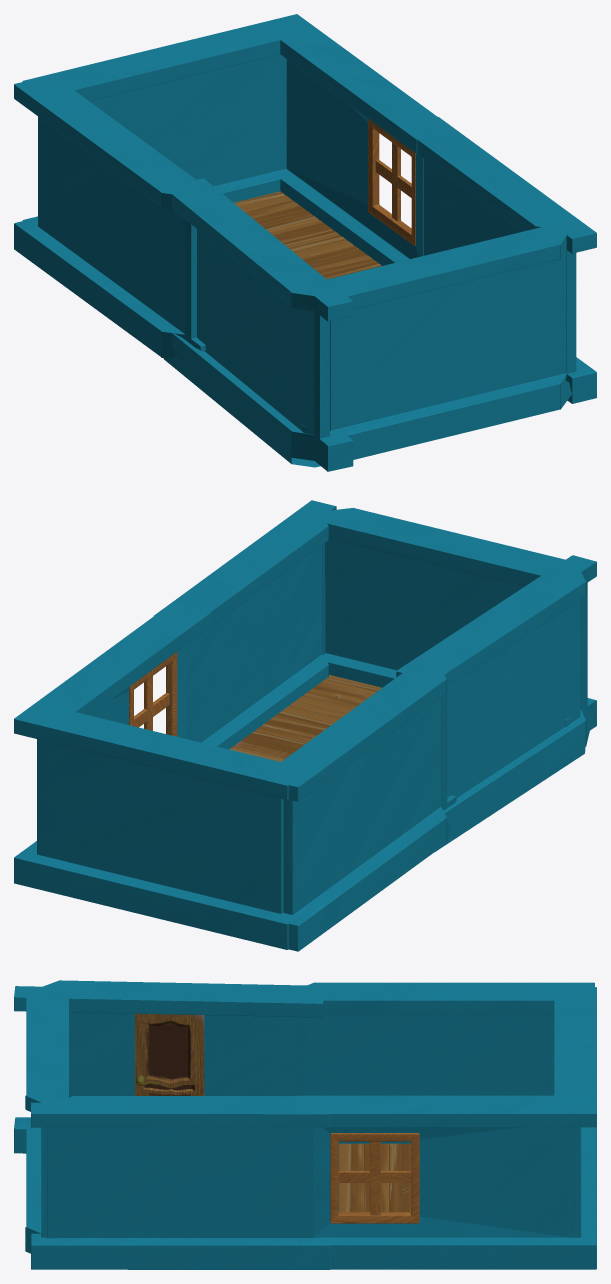
The model's file is TestRoomColored.fbx.
3 renders of one model, top to bottom at view 1: azimuth 30°, elevation 25°; view 2: azimuth 150°, elevation 25°; view 3: azimuth 270°, elevation 25°, orthographic. The views are drawn at different scales.
Parts seen in each view (by area): view 1: polySurface1811, Floor2, polySurface1739; view 2: polySurface1811, Floor2, polySurface1739; view 3: polySurface1811, polySurface1730, polySurface1739, Floor2.
Part boxes in pixels (x1,y1,x2,y2): polySurface1811: [14, 14, 596, 471]; Floor2: [234, 191, 381, 279]; polySurface1739: [368, 119, 415, 245]; polySurface1811: [14, 500, 596, 951]; Floor2: [229, 674, 381, 761]; polySurface1739: [129, 652, 177, 736]; polySurface1811: [14, 980, 596, 1269]; polySurface1730: [135, 1013, 204, 1095]; polySurface1739: [330, 1133, 419, 1223]; Floor2: [339, 1143, 411, 1212].
Size of the model in its own units: 287 by 162 by 528.
